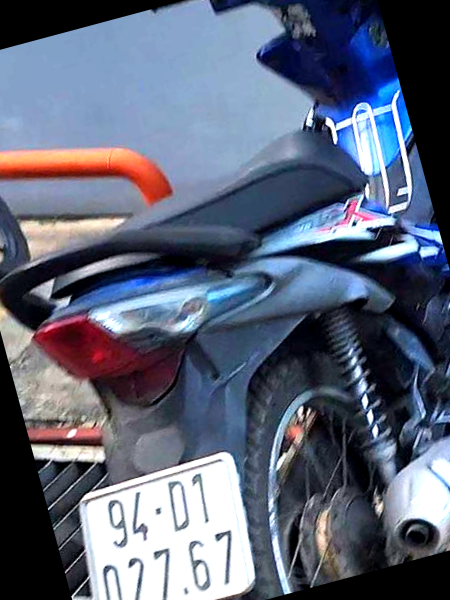number: (80, 451, 255, 600)
